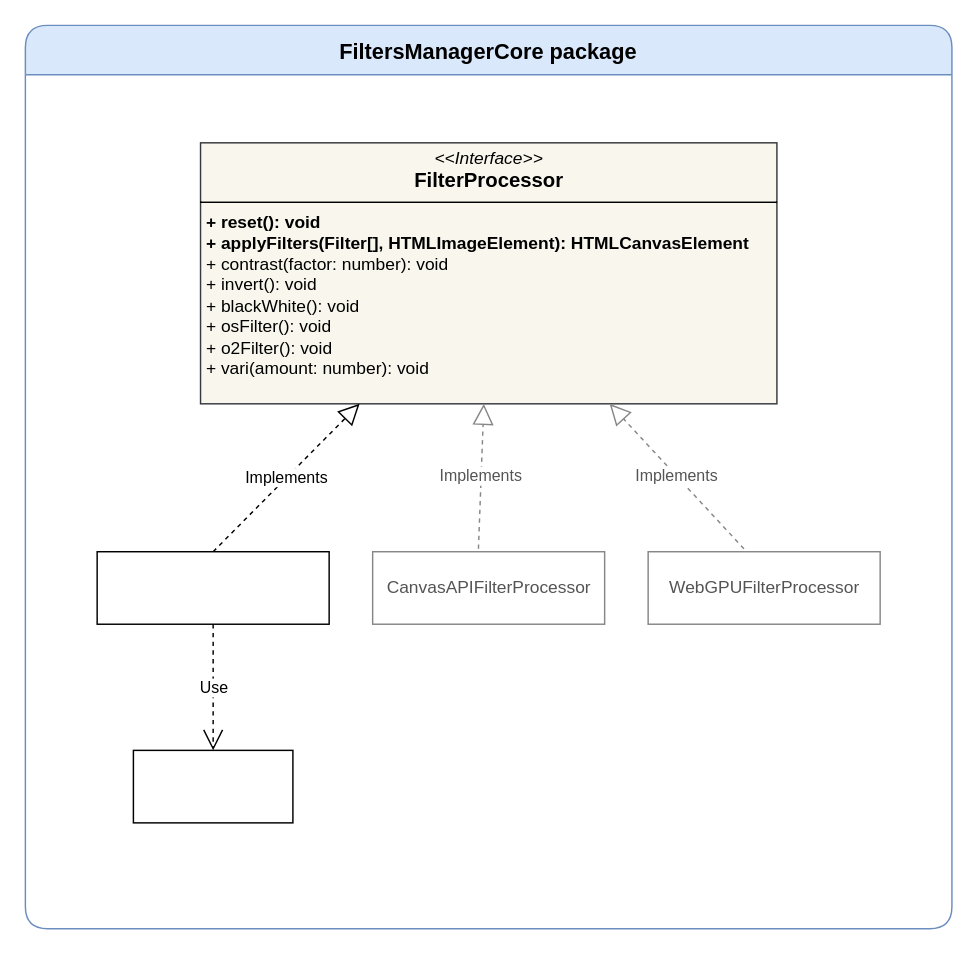
Some shapes in this 977 by 954 pixel diagram are drawn without their labels. The shapes that lost their labels are listed below. From the top down, each one's box as (x1, y1, x2, y2) in pixels, then its label:
(96, 550, 329, 624): WebGLFilterProcessor
(132, 749, 293, 823): WebGLProgram
